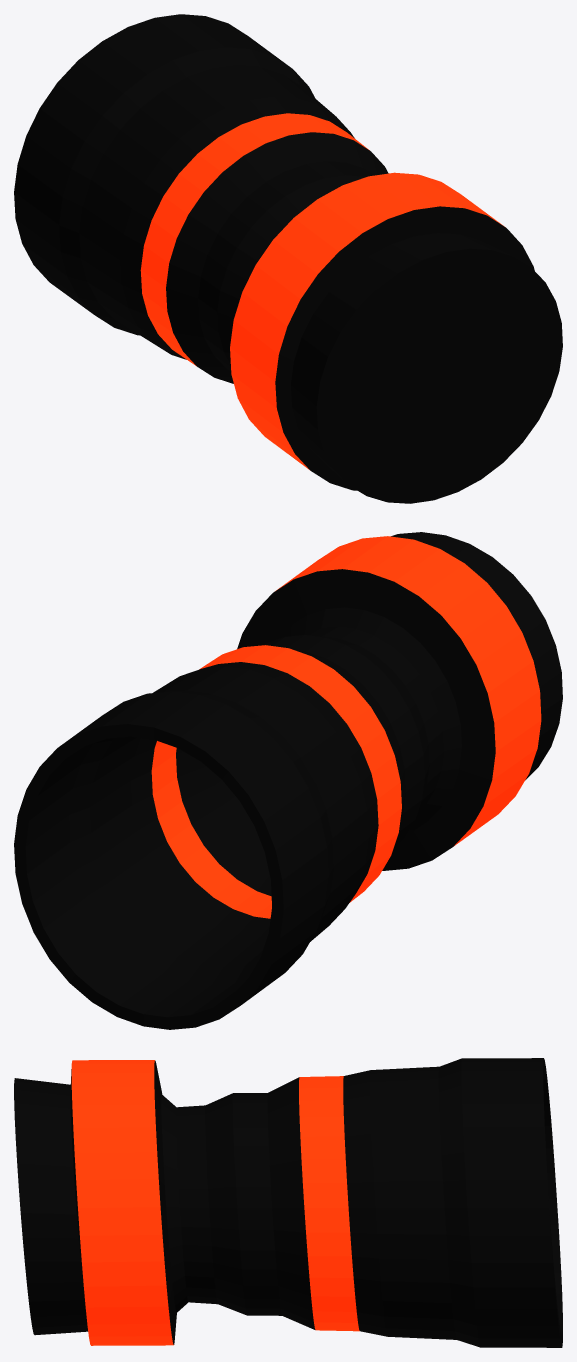
Rendered from Horse.fbx.
3 views of the same model, one above another, from view 1: azimuth 30°, elevation 25°; view 2: azimuth 150°, elevation 25°; view 3: azimuth 270°, elevation 25° (orthographic). The views are drawn at different scales.
Parts seen in each view (by area): view 1: Cylinder; view 2: Cylinder; view 3: Cylinder.
Part boxes in pixels (bbox=[...]): Cylinder: bbox=[14, 14, 562, 503]; Cylinder: bbox=[14, 532, 562, 1029]; Cylinder: bbox=[14, 1058, 562, 1347].
Bounding box in the file's own units: 194 × 200 × 376.
